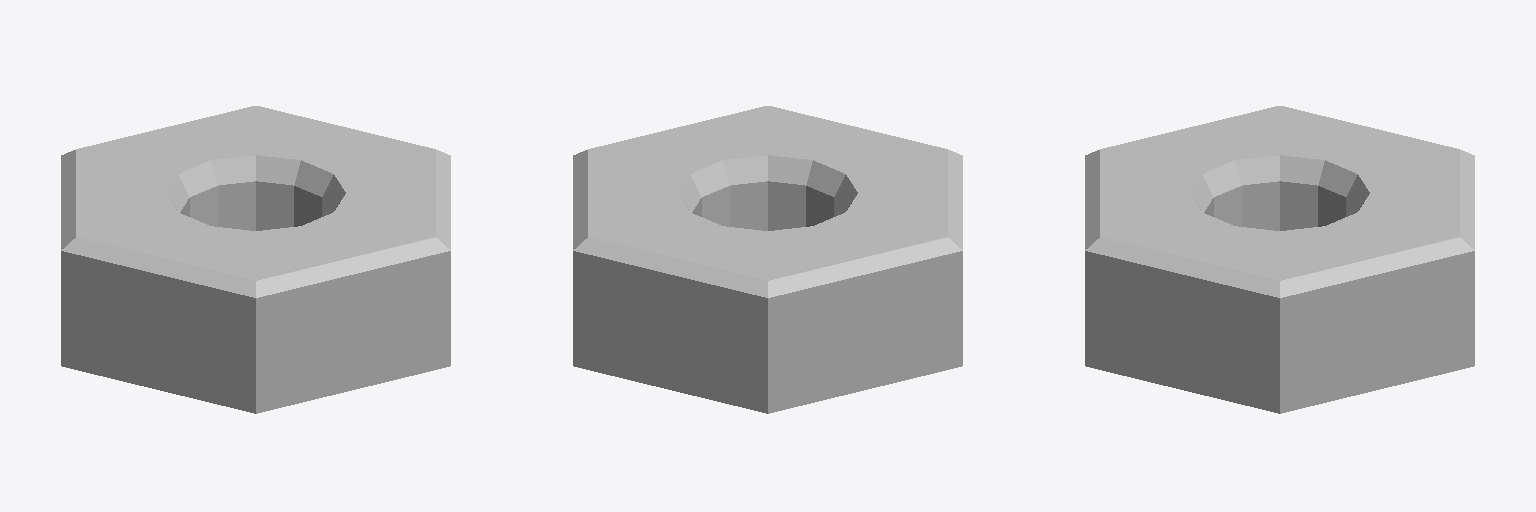
The model's file is steel_parts_item.obj.
The picture shows the model from 3 angles: view 1: azimuth 30°, elevation 25°; view 2: azimuth 150°, elevation 25°; view 3: azimuth 270°, elevation 25°; orthographic projection.
Visible parts, largest first — view 1: steel_parts_steel_parts_item; view 2: steel_parts_steel_parts_item; view 3: steel_parts_steel_parts_item.
Boxes of the visible parts, <box> form: steel_parts_steel_parts_item: <box>61,106,450,413</box>; steel_parts_steel_parts_item: <box>573,106,962,413</box>; steel_parts_steel_parts_item: <box>1085,106,1474,413</box>.
Bounding box in the file's own units: 0.2538 × 0.0781 × 0.2198.